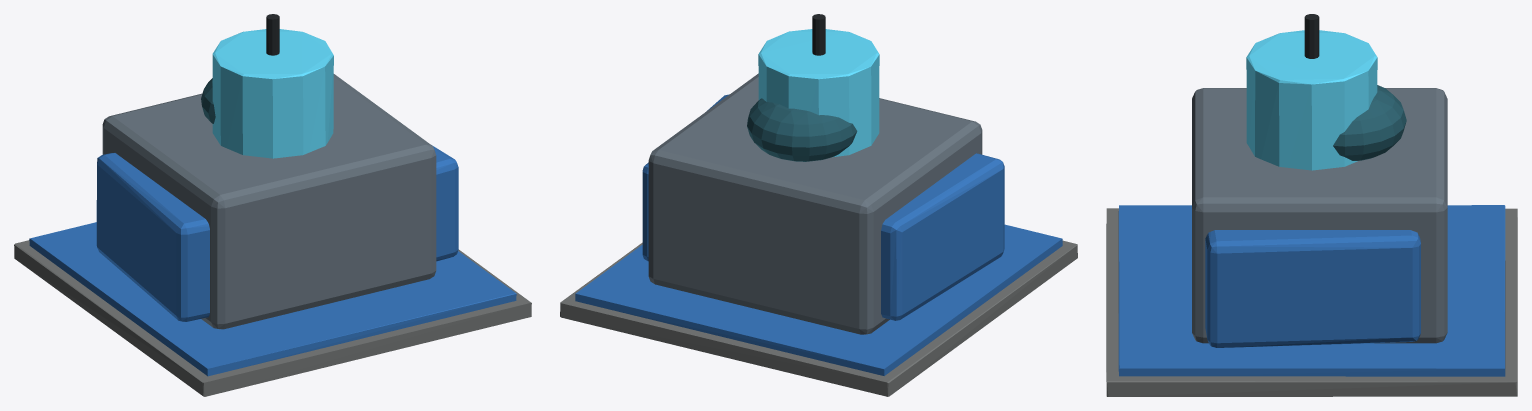
File: SM_Alliance_AL_ConYard_LOD1.fbx
3 renders of one model, left to right at view 1: azimuth 30°, elevation 25°; view 2: azimuth 150°, elevation 25°; view 3: azimuth 270°, elevation 25°, orthographic. The views are drawn at different scales.
Parts seen in each view (by area): view 1: LOD01_SM_Alliance_AL_ConYard; view 2: LOD01_SM_Alliance_AL_ConYard; view 3: LOD01_SM_Alliance_AL_ConYard.
Boxes of the visible parts, x1=… form: LOD01_SM_Alliance_AL_ConYard: x1=14, y1=14, x2=531, y2=396; LOD01_SM_Alliance_AL_ConYard: x1=560, y1=14, x2=1077, y2=396; LOD01_SM_Alliance_AL_ConYard: x1=1106, y1=14, x2=1517, y2=396.
Size of the model in its own units: 799 by 798 by 629.
